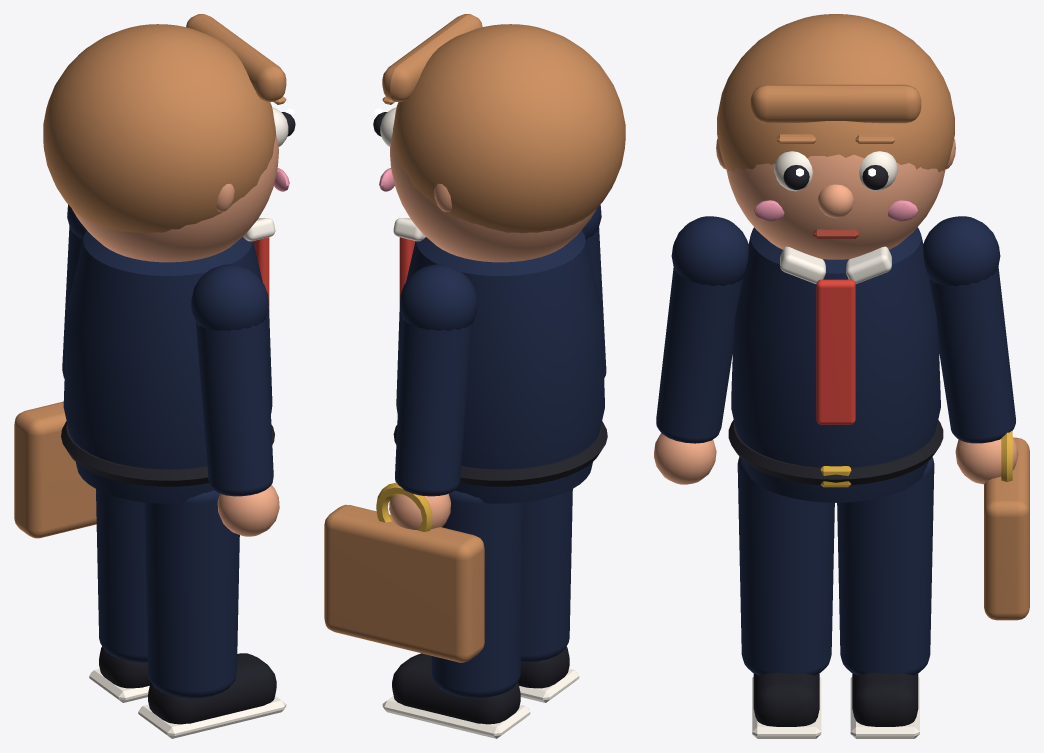
File: ped_business.glb
3 renders of one model, left to right at view 1: azimuth 30°, elevation 25°; view 2: azimuth 150°, elevation 25°; view 3: azimuth 270°, elevation 25°, orthographic.
Visible parts, largest first — view 1: ped_business; view 2: ped_business; view 3: ped_business.
Part boxes in pixels (x1,y1,x2,y2): ped_business: (14,14,295,738); ped_business: (324,14,625,738); ped_business: (654,14,1029,738).
Size of the model in its own units: 0.4688 by 1.38 by 0.6976.
1 material, 1 textured.
